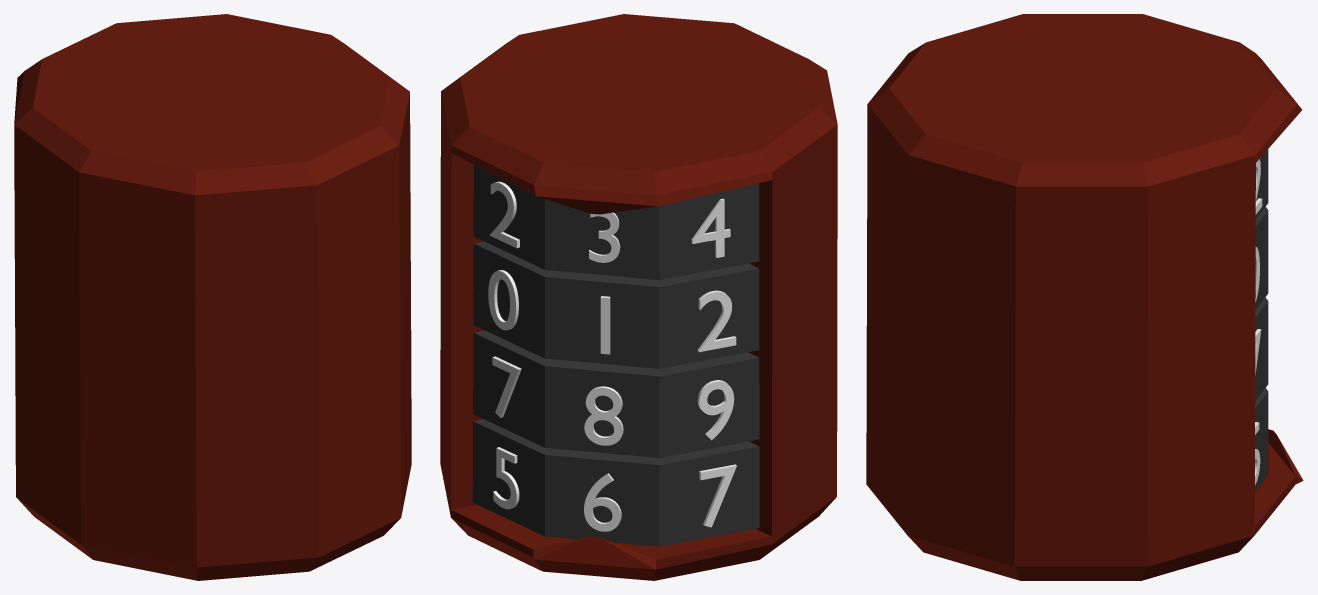
File: lock.fbx
The picture shows the model from 3 angles, left to right: view 1: azimuth 30°, elevation 25°; view 2: azimuth 150°, elevation 25°; view 3: azimuth 270°, elevation 25°; orthographic projection. The views are drawn at different scales.
Parts seen in each view (by area): view 1: Circle.004; view 2: Circle.004, Circle.001, Circle.002, Circle, Circle.003; view 3: Circle.004, Circle.001, Circle, Circle.002, Circle.003.
Part boxes in pixels (left/top/right/bottom): Circle.004: left=14, top=14, right=411, bottom=580; Circle.004: left=440, top=14, right=837, bottom=580; Circle.001: left=473, top=330, right=759, bottom=457; Circle.002: left=473, top=241, right=759, bottom=368; Circle: left=472, top=419, right=759, bottom=546; Circle.003: left=473, top=165, right=759, bottom=279; Circle.004: left=866, top=14, right=1303, bottom=580; Circle.001: left=1255, top=297, right=1268, bottom=400; Circle: left=1255, top=388, right=1268, bottom=491; Circle.002: left=1255, top=207, right=1268, bottom=309; Circle.003: left=1255, top=149, right=1268, bottom=218.
Size of the model in its own units: 209 by 246 by 234.
